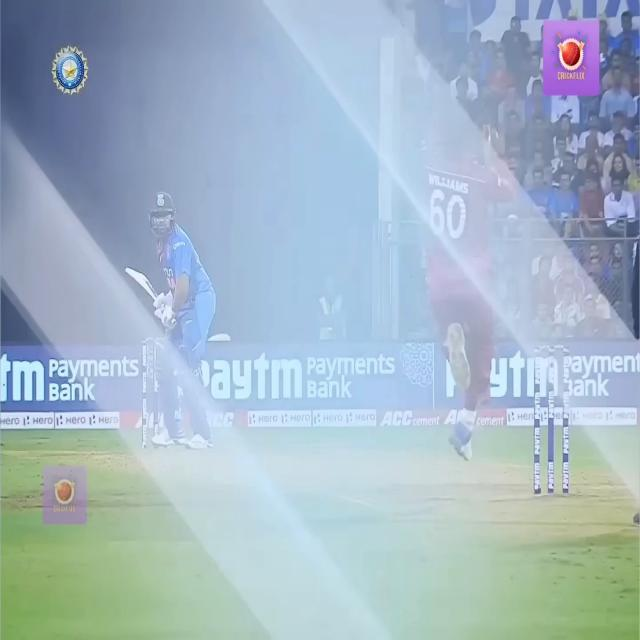partially_visible: (194, 354, 305, 409), (445, 357, 561, 401)
